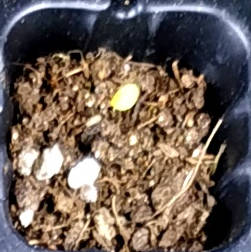pepper seed: (40, 26, 180, 138)
